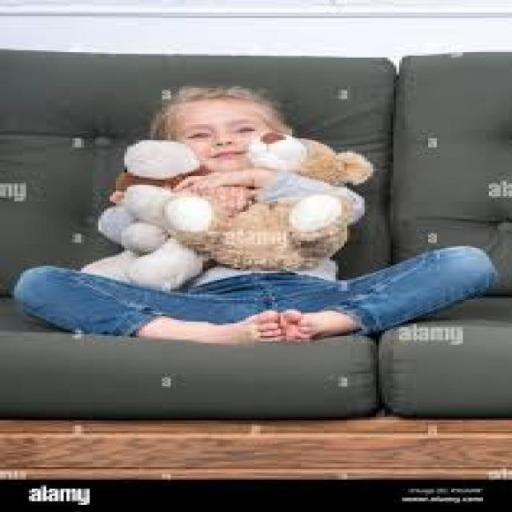baby: (16, 252, 495, 341)
